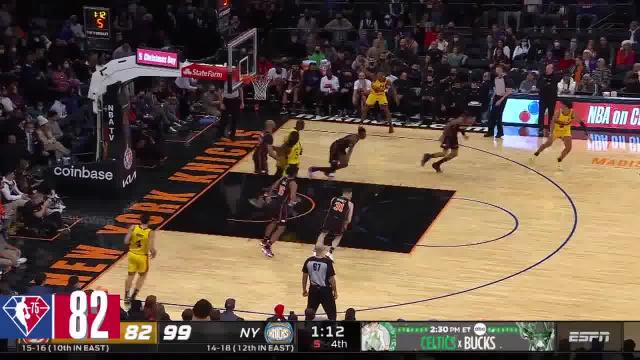ball-handler: (304, 126, 366, 181)
player: (417, 106, 477, 176), (259, 165, 299, 261), (532, 100, 579, 172), (122, 210, 158, 303), (314, 185, 354, 264), (354, 63, 398, 133), (245, 117, 274, 192), (281, 119, 305, 193)
